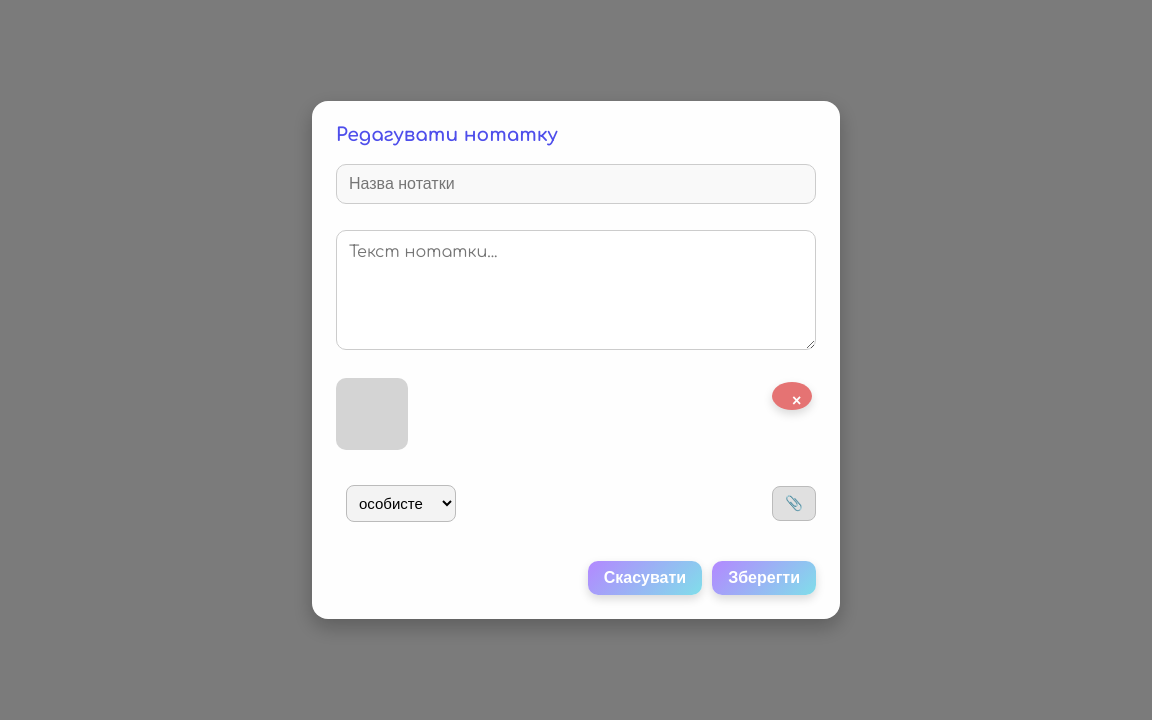
Test case: кнопка "×" видаляє зображення
Click the button "×": (792, 396) [772,382,812,410]
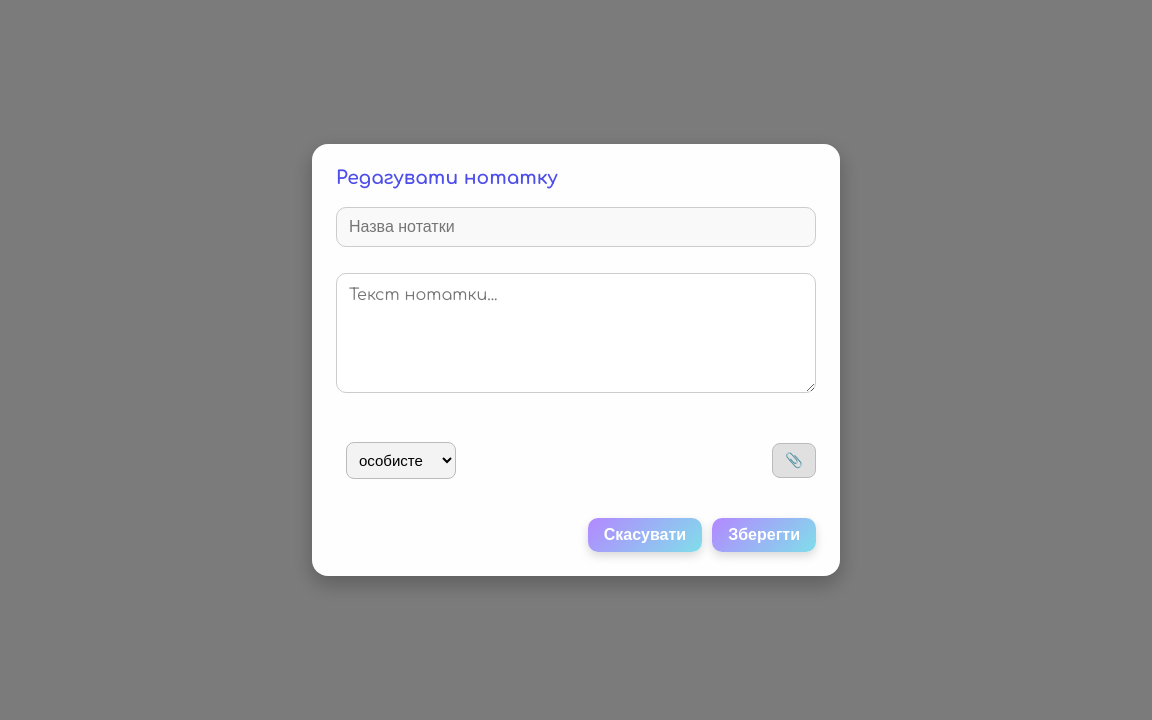
Check: the picture with alt text "attached" is gone
